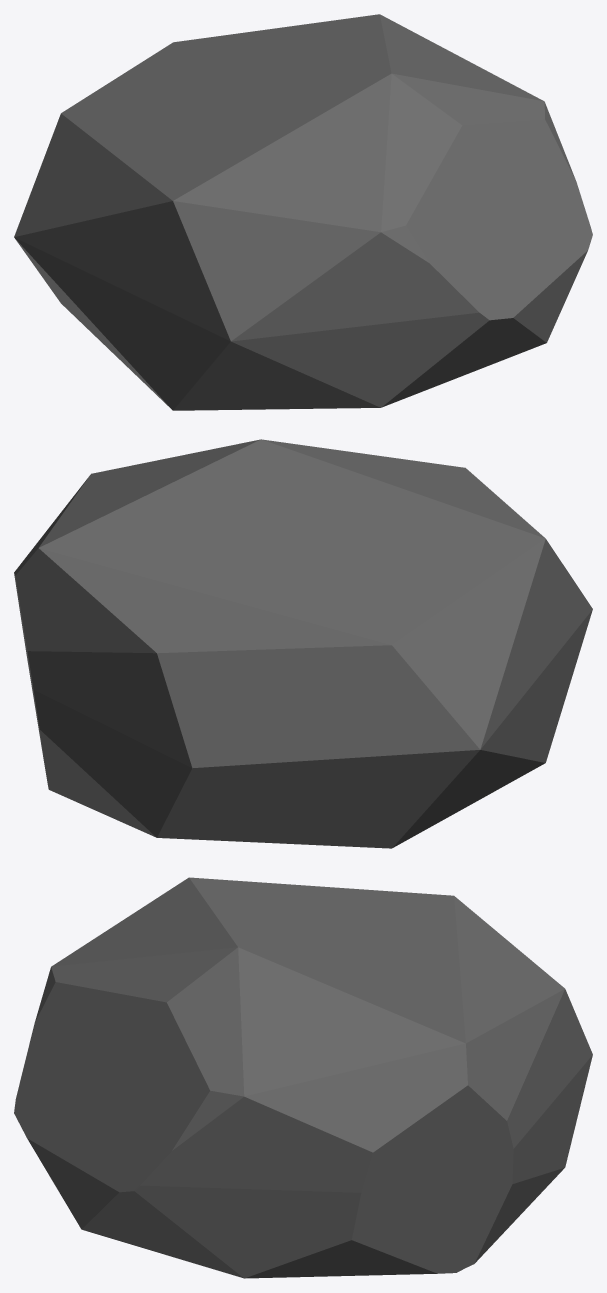
Rendered from Rock2.fbx.
The picture shows the model from 3 angles, top to bottom: view 1: azimuth 30°, elevation 25°; view 2: azimuth 150°, elevation 25°; view 3: azimuth 270°, elevation 25°; orthographic projection. The views are drawn at different scales.
Parts seen in each view (by area): view 1: Cube; view 2: Cube; view 3: Cube.
Boxes of the visible parts, x1,y1,x2,y2 form: Cube: (14, 14, 592, 410); Cube: (14, 439, 592, 848); Cube: (14, 877, 592, 1278).
Size of the model in its own units: 86.06 by 56.03 by 91.03.
